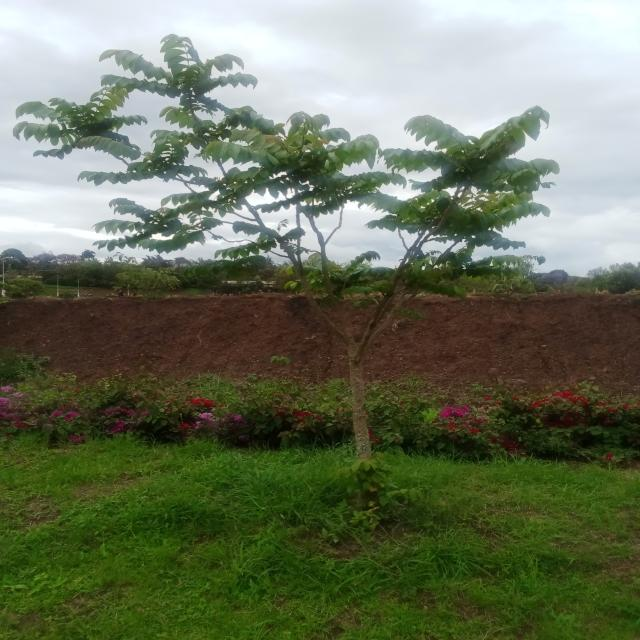Polyscias Kikuyensis: (15, 28, 560, 512)
